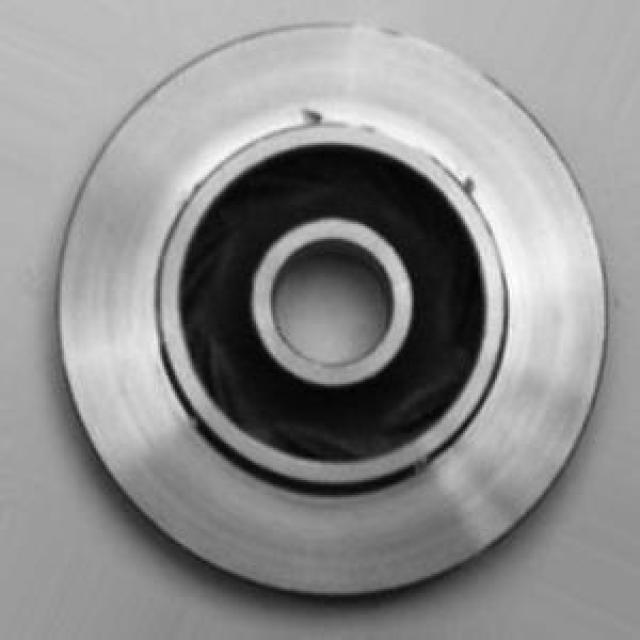Defect: (300, 100, 326, 127)
